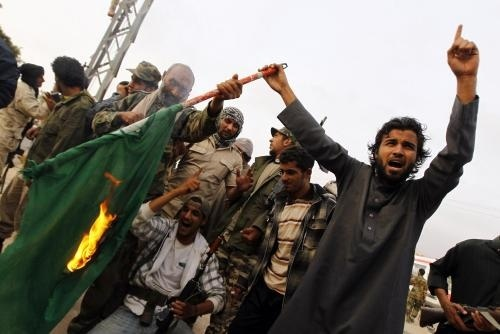fire: (65, 200, 115, 271)
